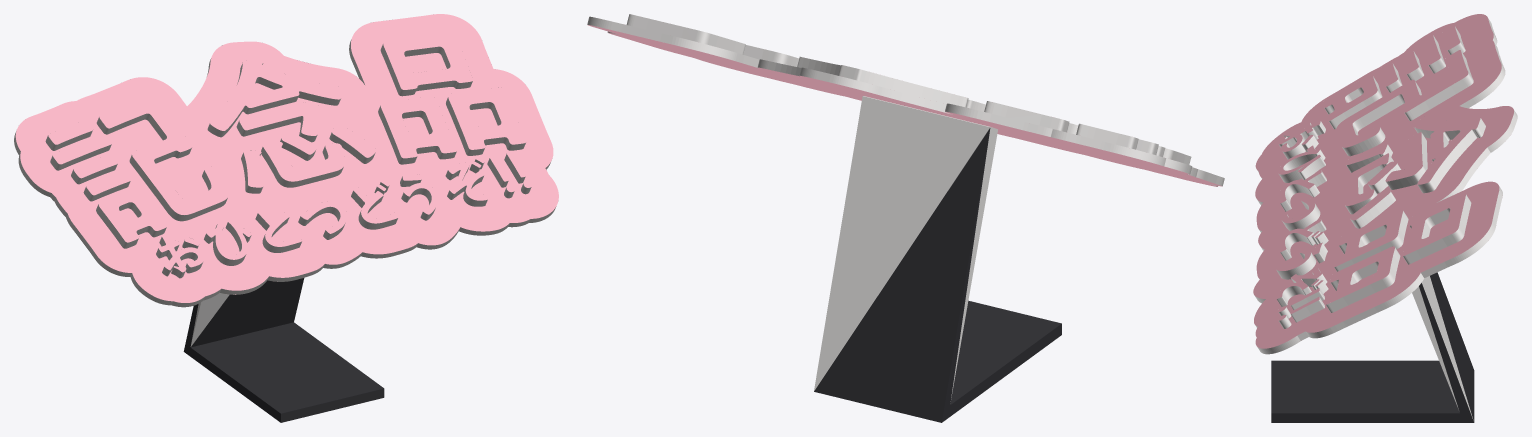
Rendered from kinen.glb.
3 views of the same model, side by side, from view 1: azimuth 30°, elevation 25°; view 2: azimuth 150°, elevation 25°; view 3: azimuth 270°, elevation 25° (orthographic). The views are drawn at different scales.
Parts seen in each view (by area): view 1: 25:05:29記念品4; view 2: 25:05:29記念品4; view 3: 25:05:29記念品4.
Boxes of the visible parts, x1=… form: 25:05:29記念品4: x1=14, y1=14, x2=558, y2=422; 25:05:29記念品4: x1=587, y1=14, x2=1224, y2=422; 25:05:29記念品4: x1=1253, y1=14, x2=1517, y2=422.
Bounding box in the file's own units: 1 × 0.5513 × 0.4538.
